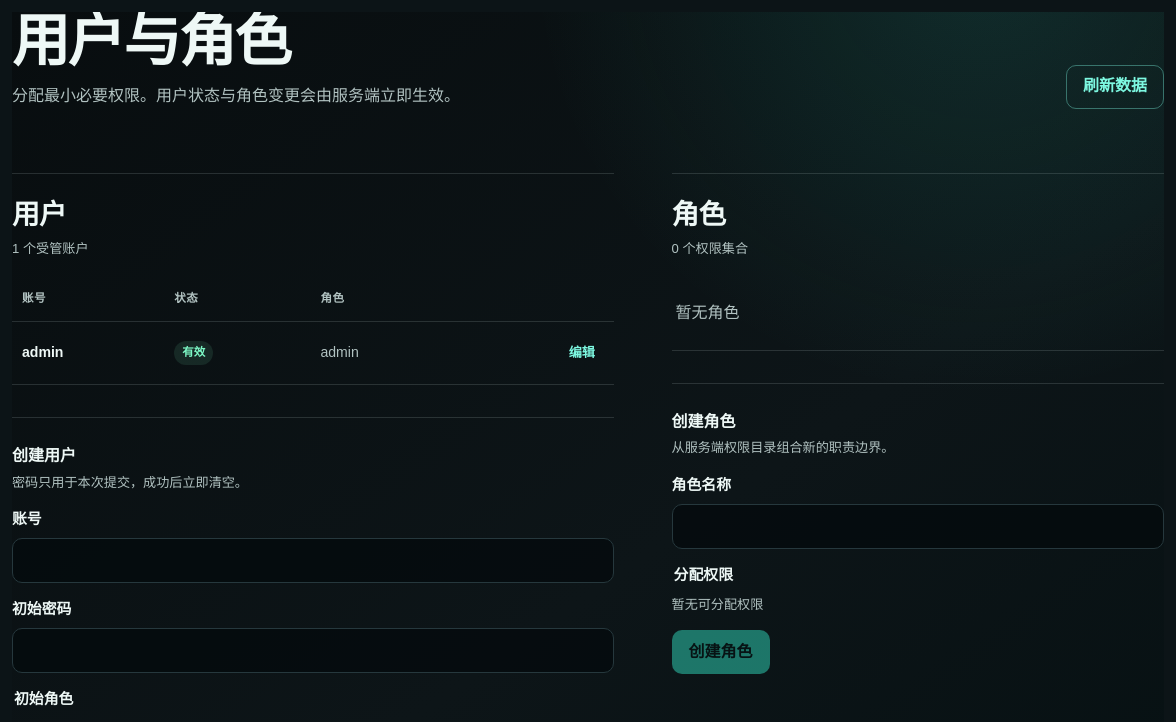
Test: UserManagementPage › clears cached administration data and refreshes identity after a forbidden reload
Expected: the row "admin 有效 admin 编辑" is shown, top-left (12, 321), bottom-right (614, 384)
Click the button "刷新数据" at (1115, 87), box top-left (1066, 65), bottom-right (1164, 109)
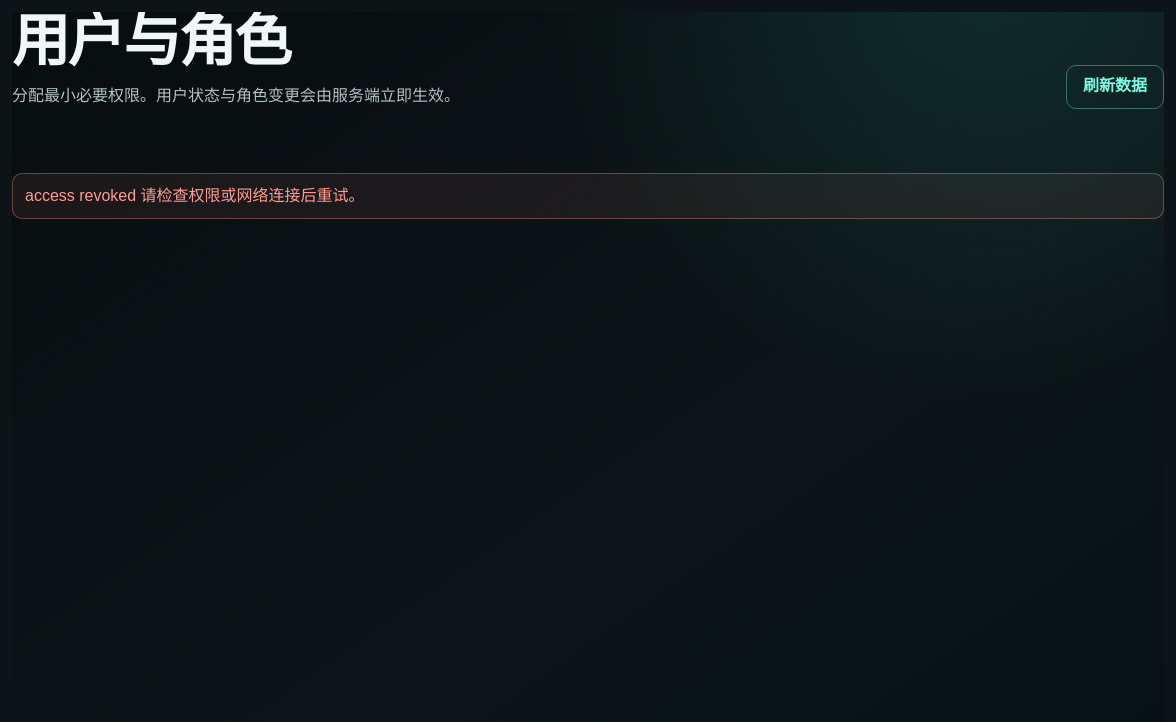
Now the column heading "admin" is gone
Now the message shows "access revoked", box top-left (25, 187), bottom-right (136, 204)
